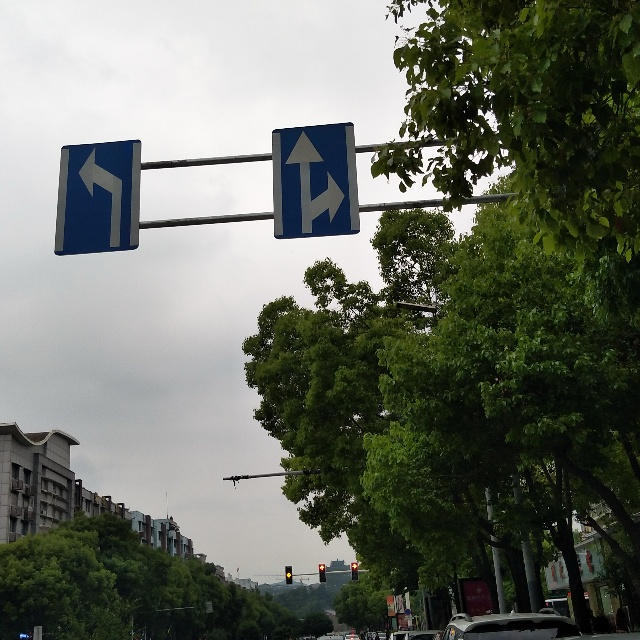left: (65, 144, 134, 254)
